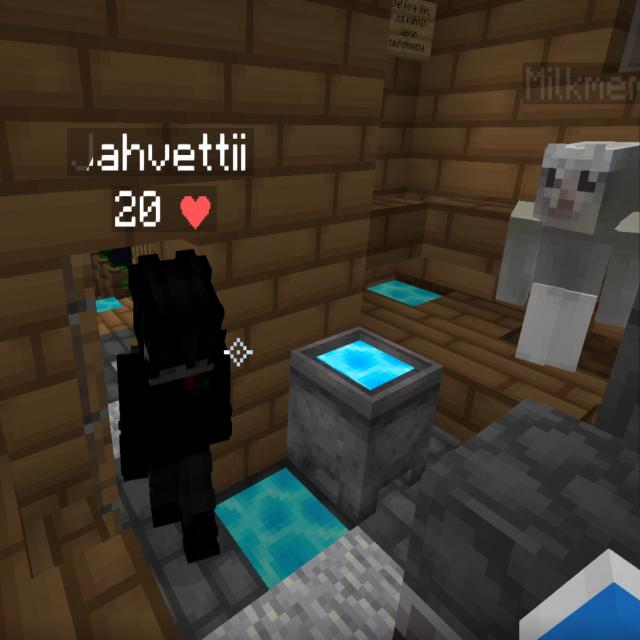Player: (118, 248, 235, 563), (496, 136, 638, 372)
